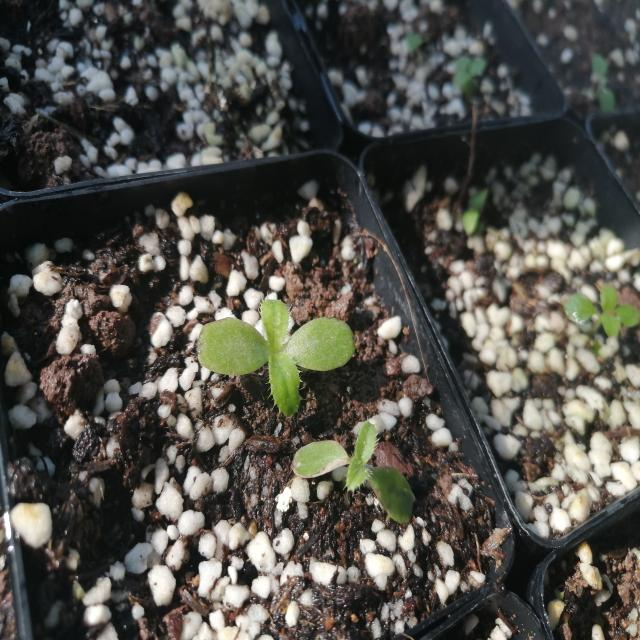field_thistle: (188, 277, 372, 419), (279, 416, 429, 535)
